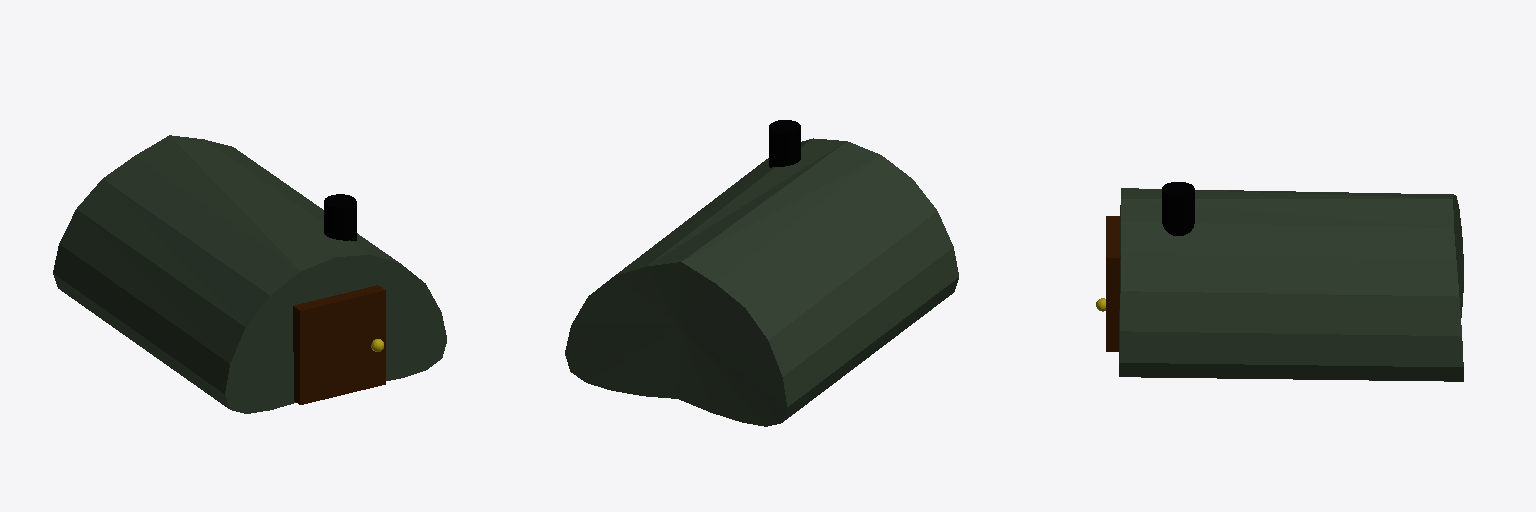
File: RTS-Barracks1.obj
3 renders of one model, left to right at view 1: azimuth 30°, elevation 25°; view 2: azimuth 150°, elevation 25°; view 3: azimuth 270°, elevation 25°, orthographic.
Parts seen in each view (by area): view 1: pCylinder1, pCube1, pCylinder2; view 2: pCylinder1, pCylinder2; view 3: pCylinder1, pCube1, pCylinder2.
Boxes of the visible parts, <box> form: pCylinder1: <box>53,135,446,413</box>; pCube1: <box>293,285,385,404</box>; pCylinder2: <box>324,194,356,240</box>; pCylinder1: <box>565,138,958,426</box>; pCylinder2: <box>769,120,800,167</box>; pCylinder1: <box>1119,188,1463,381</box>; pCube1: <box>1106,216,1120,351</box>; pCylinder2: <box>1162,182,1194,235</box>.
Size of the model in its own units: 5.23 by 3.77 by 7.5.